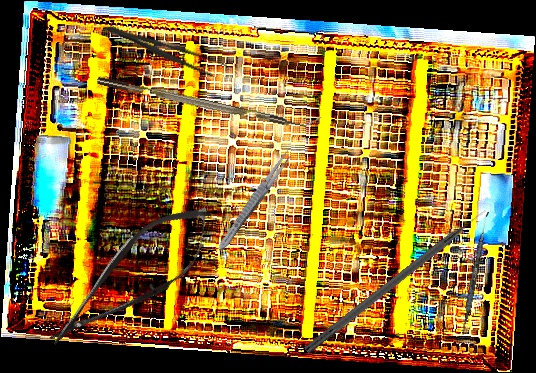Chopper: (96, 66, 322, 135)
Dressing Forceps: (214, 145, 296, 255), (104, 19, 229, 81)
Hook Surgical: (303, 206, 491, 357)
Micro Scissor: (31, 188, 232, 368)
Spatula Surgical: (460, 210, 490, 337)
